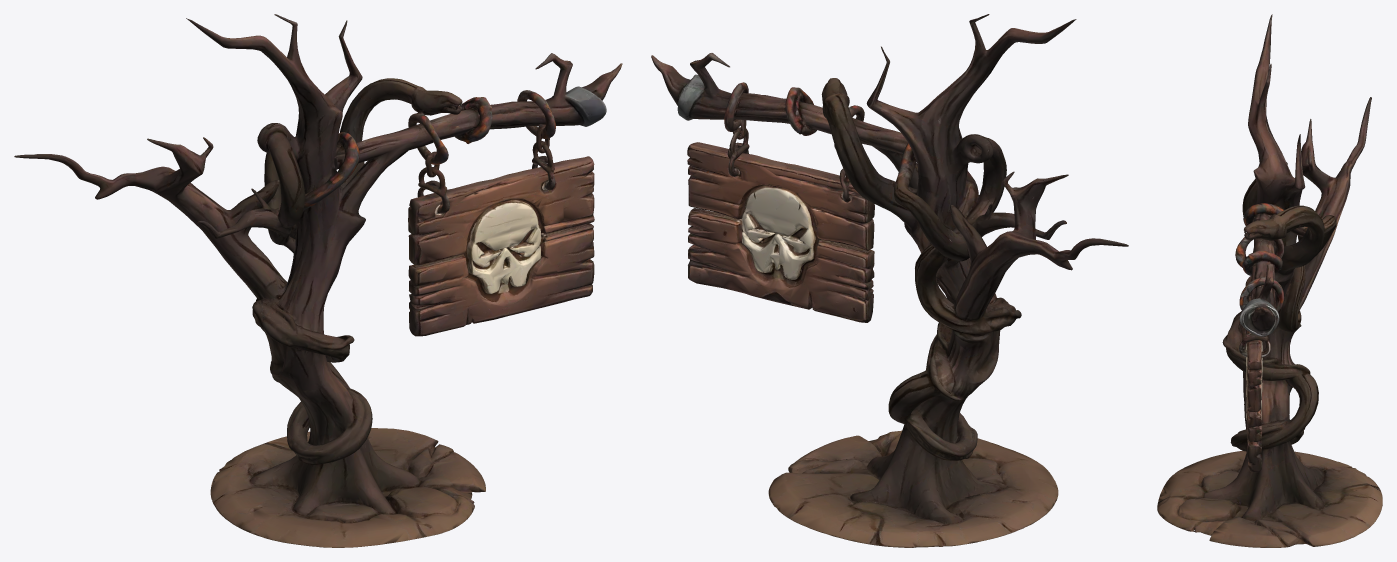
Rendered from skull_sign.glb.
3 views of the same model, side by side, from view 1: azimuth 30°, elevation 25°; view 2: azimuth 150°, elevation 25°; view 3: azimuth 270°, elevation 25° (orthographic). The views are drawn at different scales.
Size of the model in its own units: 1.9 by 1.71 by 0.8286.
Materials: 1 (1 with a texture image).
